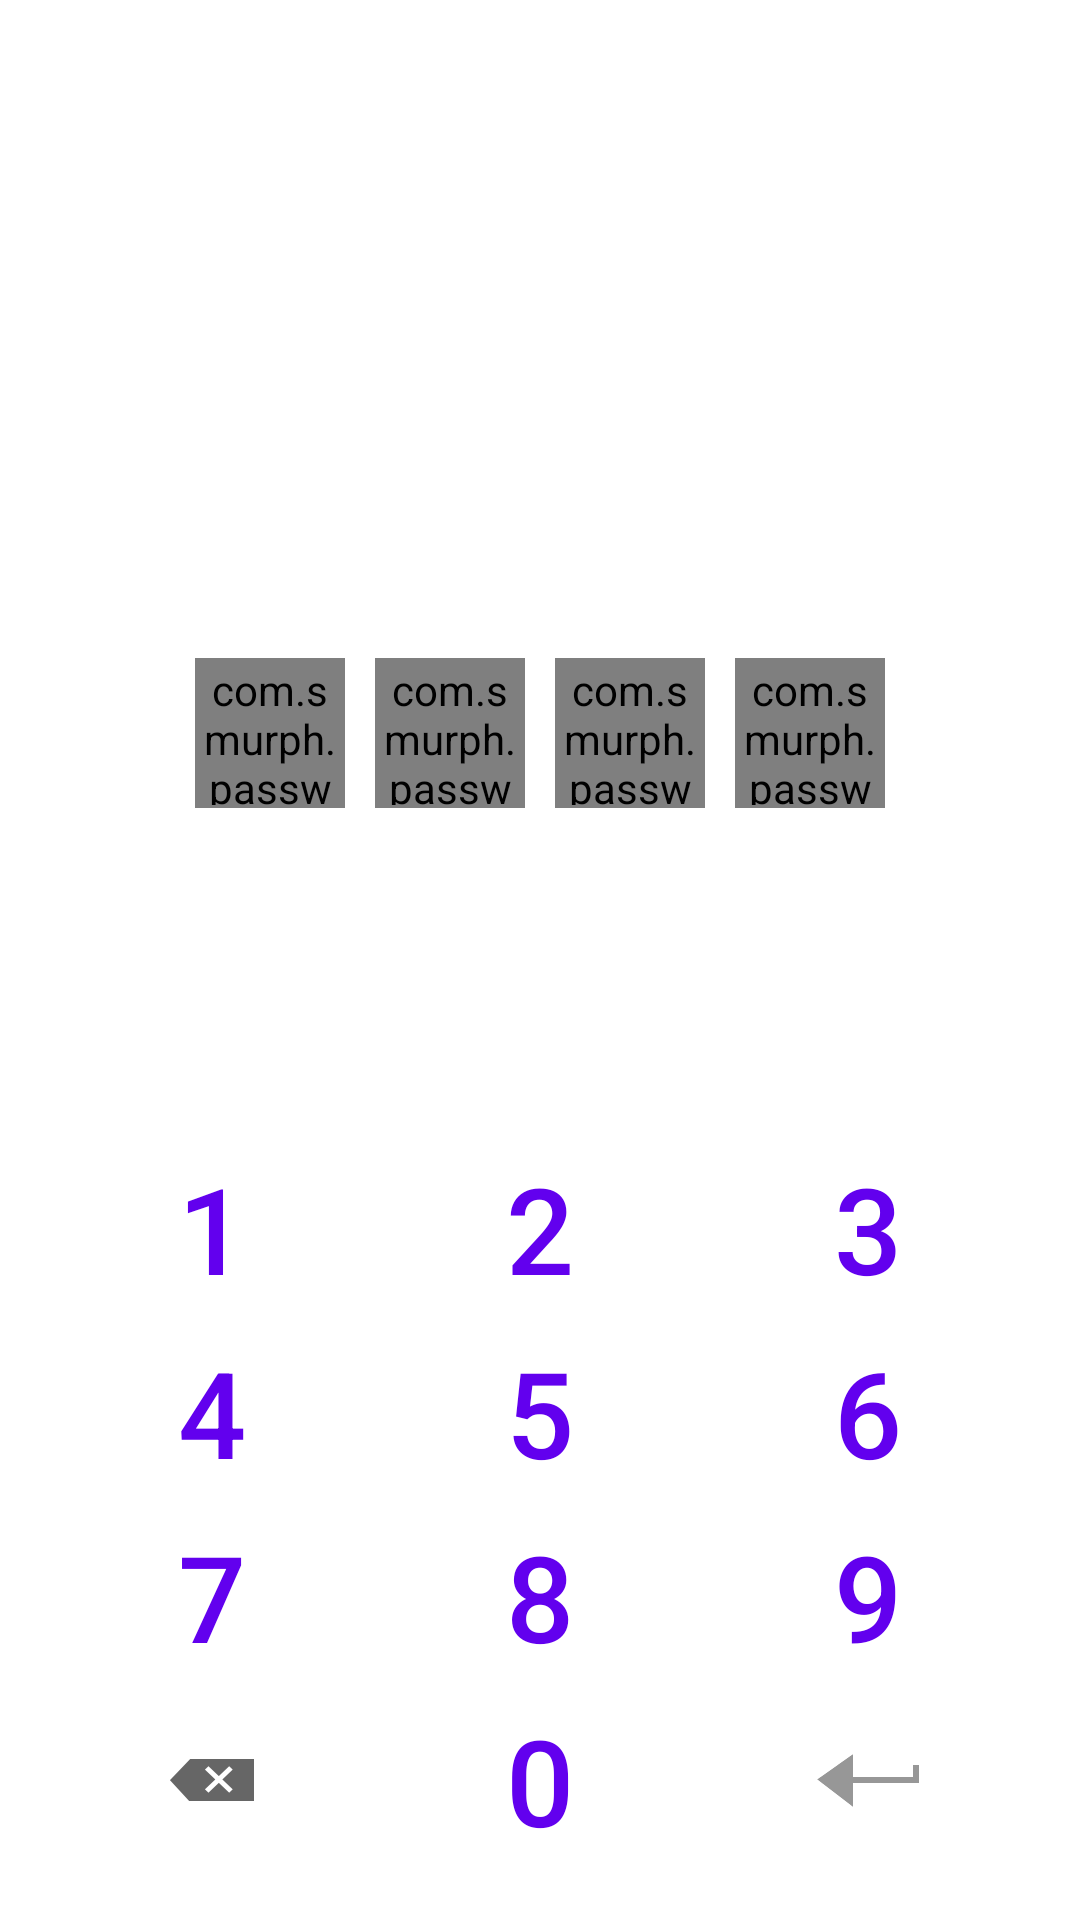

Screen size 1080*1920. Icon name, then its box in pixels as (x1, y1, x2, y2):
Delete: (170, 1759, 254, 1801)
Return: (817, 1754, 919, 1807)
